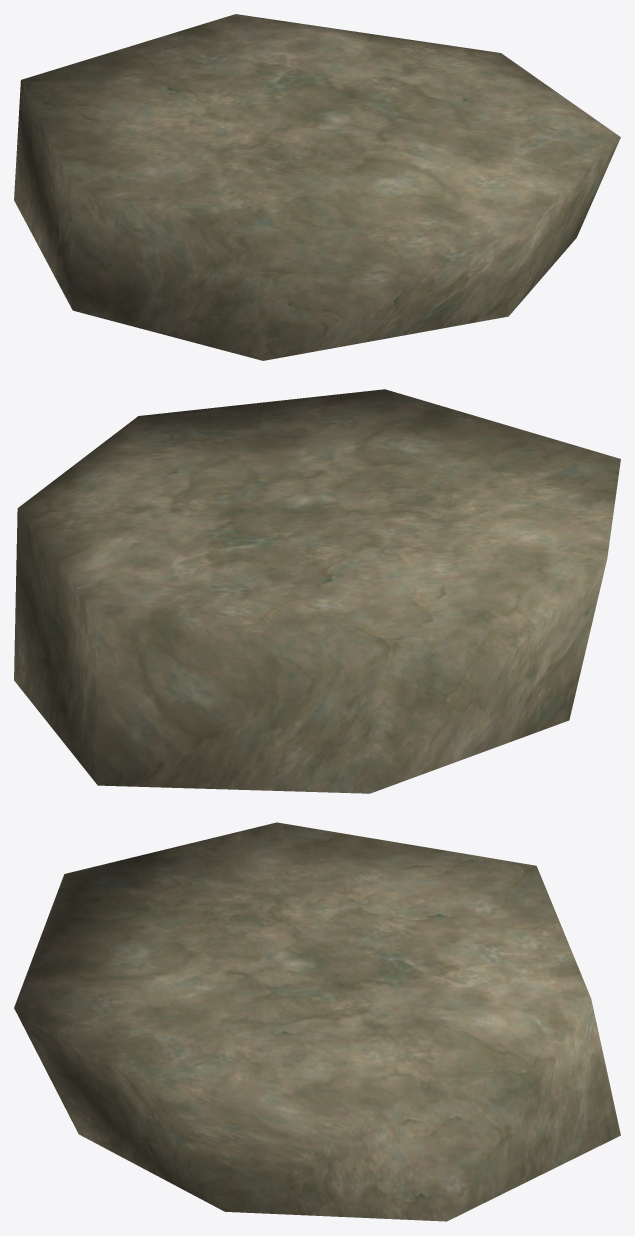
File: EKH_GROTTO_PS_GR_OBJECT41.fbx
3 views of the same model, one above another, from view 1: azimuth 30°, elevation 25°; view 2: azimuth 150°, elevation 25°; view 3: azimuth 270°, elevation 25° (orthographic). The views are drawn at different scales.
Visible parts, largest first — view 1: EKH_GROTTO_PS_GR_OBJECT41; view 2: EKH_GROTTO_PS_GR_OBJECT41; view 3: EKH_GROTTO_PS_GR_OBJECT41.
Boxes of the visible parts, x1=… form: EKH_GROTTO_PS_GR_OBJECT41: x1=14, y1=14, x2=620, y2=360; EKH_GROTTO_PS_GR_OBJECT41: x1=14, y1=389, x2=620, y2=793; EKH_GROTTO_PS_GR_OBJECT41: x1=14, y1=822, x2=620, y2=1221.
Bounding box in the file's own units: 22477 × 7204 × 23635.
Materials: 1 (1 with a texture image).
